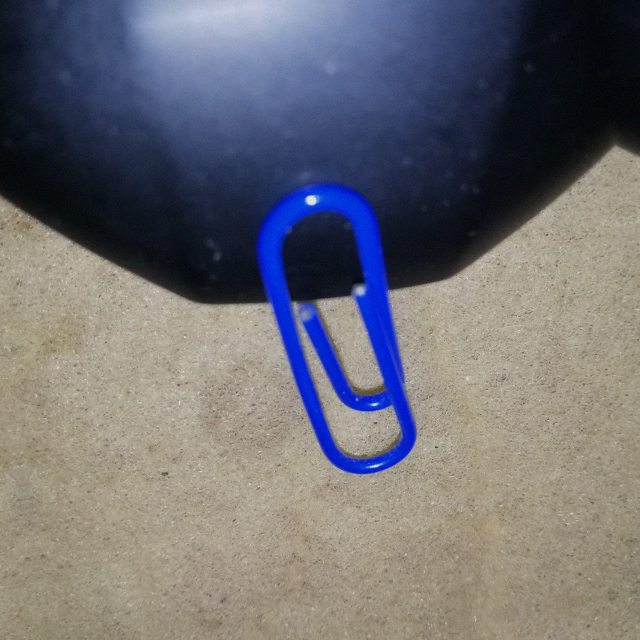pin: (253, 181, 423, 492)
